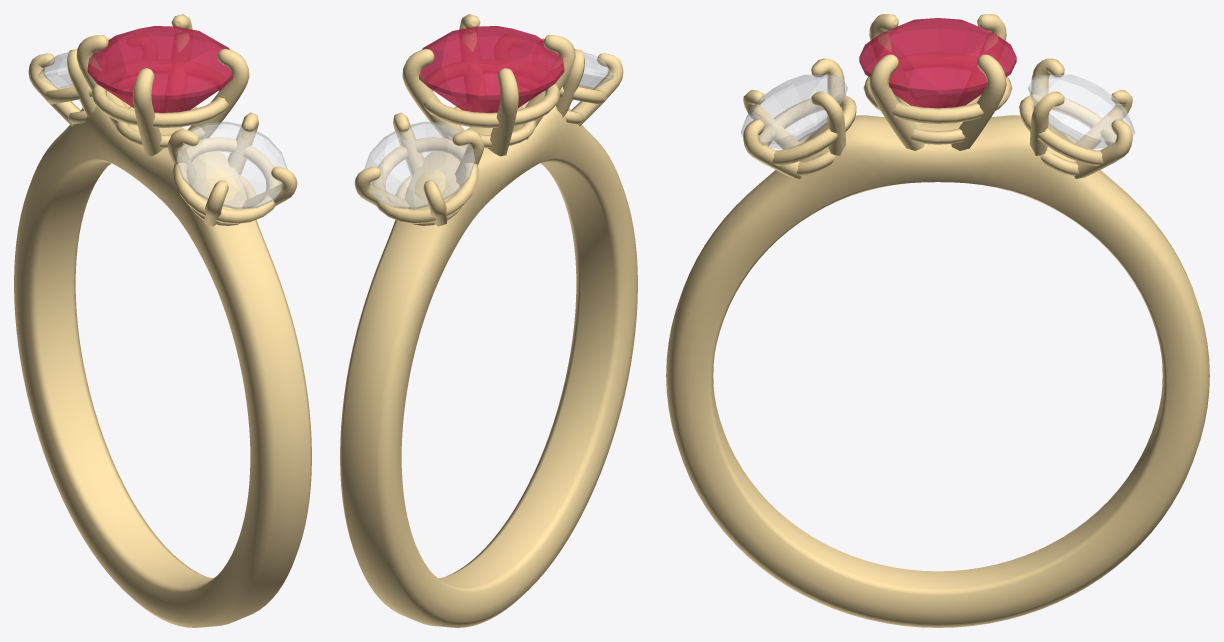
Rendered from RingRubyThreeStone.obj.
The picture shows the model from 3 angles, left to right: view 1: azimuth 30°, elevation 25°; view 2: azimuth 150°, elevation 25°; view 3: azimuth 270°, elevation 25°; orthographic projection. The views are drawn at different scales.
Visible parts, largest first — view 1: Gold18k, Ruby, Diamond; view 2: Gold18k, Ruby, Diamond; view 3: Gold18k, Ruby, Diamond.
Part boxes in pixels (x1,y1,x2,y2): Gold18k: [14, 14, 311, 627]; Ruby: [87, 26, 232, 112]; Diamond: [38, 52, 287, 209]; Gold18k: [340, 14, 637, 627]; Ruby: [419, 26, 564, 112]; Diamond: [364, 52, 613, 209]; Gold18k: [666, 14, 1209, 627]; Ruby: [859, 18, 1016, 108]; Diamond: [740, 74, 1135, 149].
Size of the model in its own units: 0.006 by 0.0247 by 0.0207.
